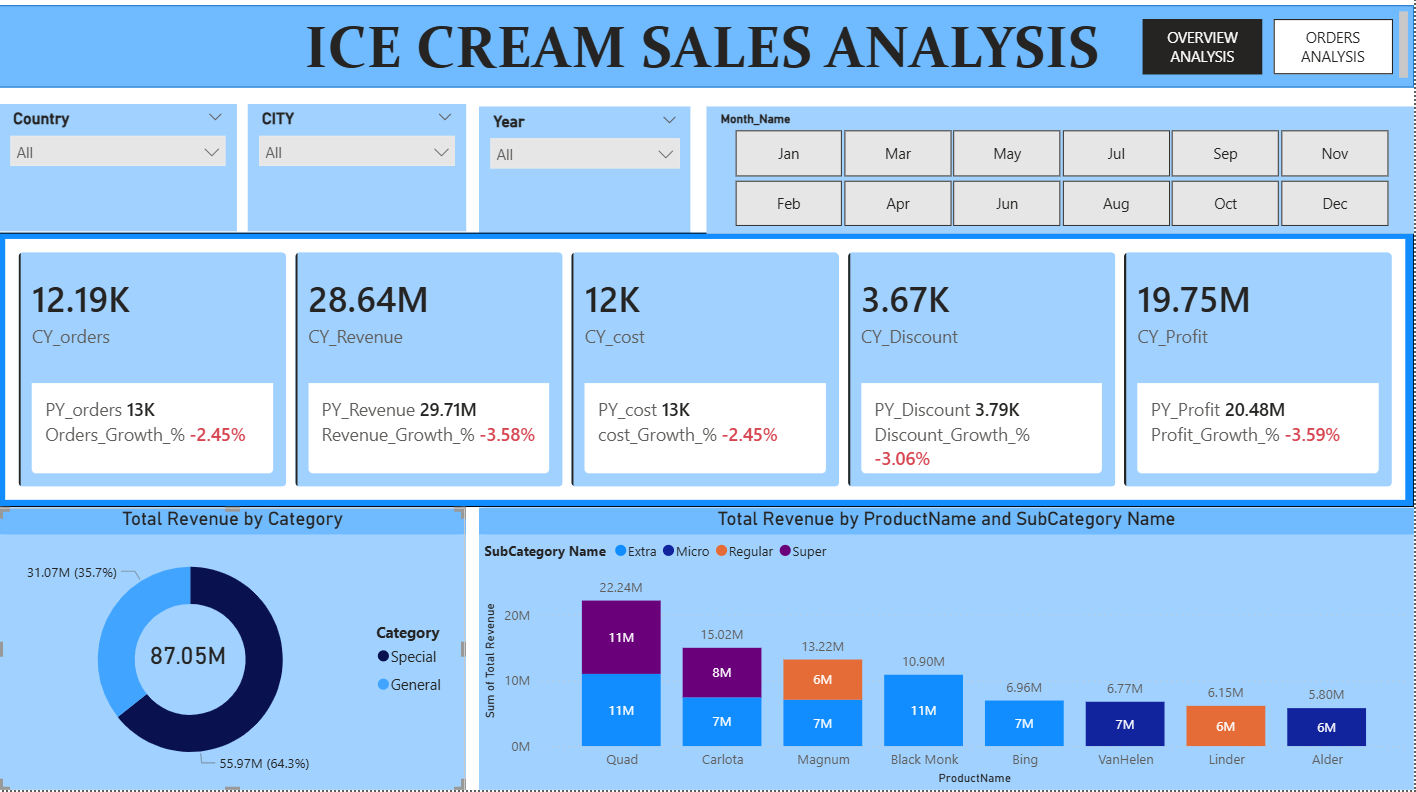

The dashboard page shown, as its layout file describes it:
{"tool":"powerbi","page":{"name":"OVERVIEW ANALYSIS","canvas":[1280,720],"ordinal":0},"visuals":[{"type":"donutChart","title":"Total Revenue by Category","fields":{"Category":["Categories.Category"],"Y":["Sum(FINAL SALES.Total Revenue)"]},"box":[0,464.2,422.2,255.6],"z":0,"group":"g1"},{"type":"slicer","fields":{"Values":["Date Master.Year"]},"box":[434.6,101.2,191.4,114.8],"z":0},{"type":"card","fields":{"Values":["Sum(FINAL SALES.Total Revenue)"]},"box":[131.4,580.3,79.7,34.9],"z":1000,"group":"g1"},{"type":"cardVisual","fields":{"Data":["calculations.CY_orders","calculations.CY_Revenue","calculations.CY_cost","calculations.CY_Discount","calculations.CY_Profit"]},"box":[0,216,1280.2,248.1],"z":1000},{"type":"textbox","box":[0,10.5,1280.2,74.4],"z":2000},{"type":"slicer","fields":{"Values":["Geography.CITY"]},"box":[224.7,100,197.5,114.8],"z":3000},{"type":"slicer","fields":{"Values":["Geography.Country"]},"box":[0,100,214.8,114.8],"z":4000},{"type":"slicer","fields":{"Values":["Date Master.Month_Name"]},"box":[639.5,101.2,640.7,114.8],"z":5000},{"type":"group","id":"g1","title":"Group 1","box":[0,464.2,422.2,255.6],"z":6000},{"type":"columnChart","title":"Total Revenue by ProductName and SubCategory Name","fields":{"Y":["Sum(FINAL SALES.Total Revenue)"],"Category":["Product.ProductName"],"Series":["SubCategory.SubCategory Name"]},"box":[434.6,464.2,845.7,255.6],"z":7000},{"type":"pageNavigator","box":[1034.9,22.1,227.9,50],"z":8000}]}

Visuals, with their boxes in screenshot pixels (x1, y1, x2, y2), scaled from the page's 1280x720 canvas onto the 1416x792 screenshot:
"Total Revenue by Category" donutChart: detection(0, 511, 467, 791)
slicer - Date Master.Year: detection(481, 111, 693, 238)
card - Sum(FINAL SALES.Total Revenue): detection(145, 638, 234, 677)
cardVisual - calculations.CY_orders x calculations.CY_Revenue: detection(0, 238, 1415, 511)
textbox: detection(0, 12, 1415, 93)
slicer - Geography.CITY: detection(249, 110, 467, 236)
slicer - Geography.Country: detection(0, 110, 238, 236)
slicer - Date Master.Month_Name: detection(707, 111, 1415, 238)
"Group 1" group: detection(0, 511, 467, 791)
"Total Revenue by ProductName and SubCategory Name" columnChart: detection(481, 511, 1415, 791)
pageNavigator: detection(1145, 24, 1397, 79)
